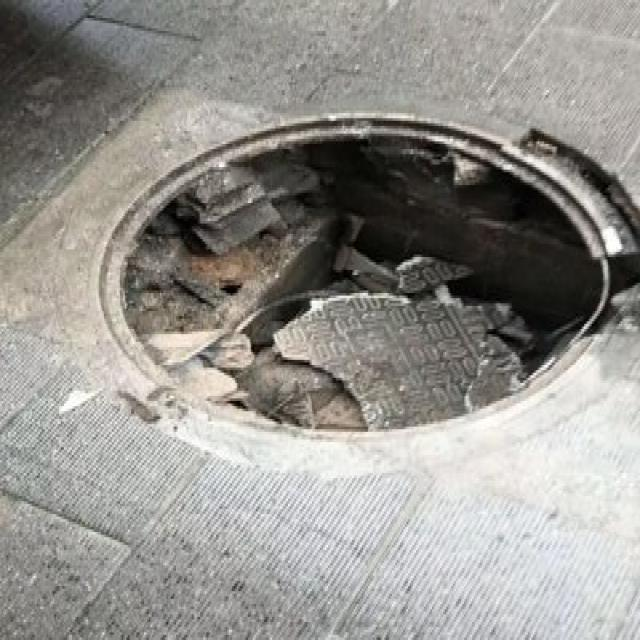manhole: (104, 100, 635, 440)
